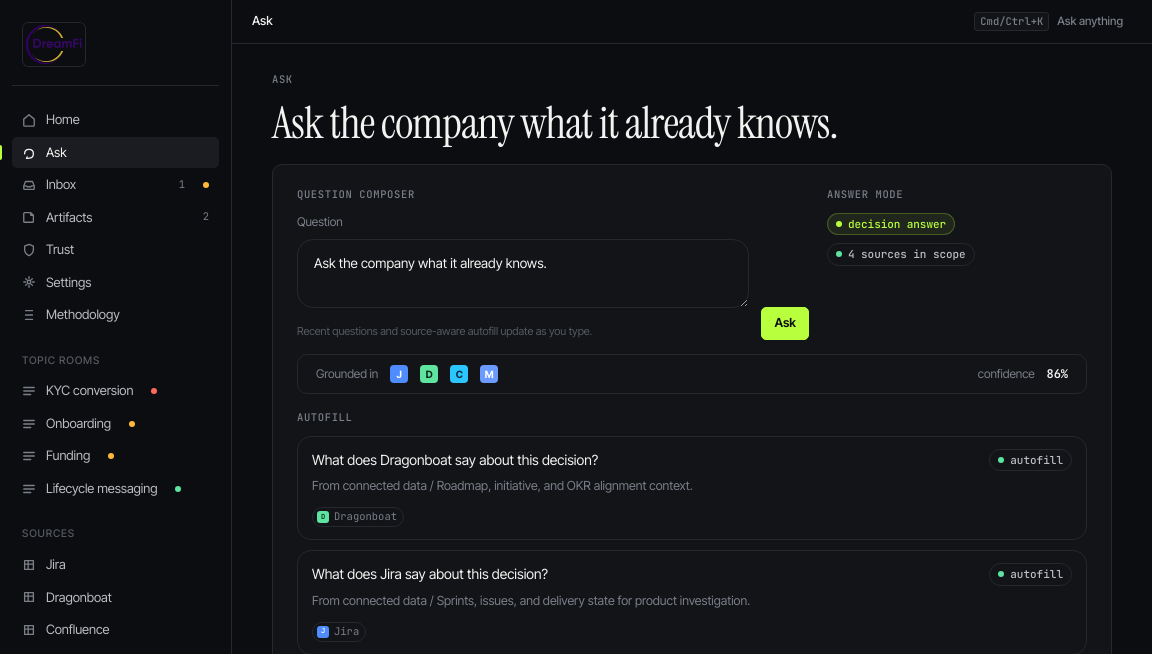
Test case: AppShell navigation › submits the ask page composer as an in-app query flow
Expected: the heading "Ask the company what it already knows." is shown, top-left (272, 94), bottom-right (838, 152)
Replace the text in the text box labelled "Question" with "Should onboarding stay in discovery or move forward?" at (523, 273), box top-left (297, 239), bottom-right (750, 308)
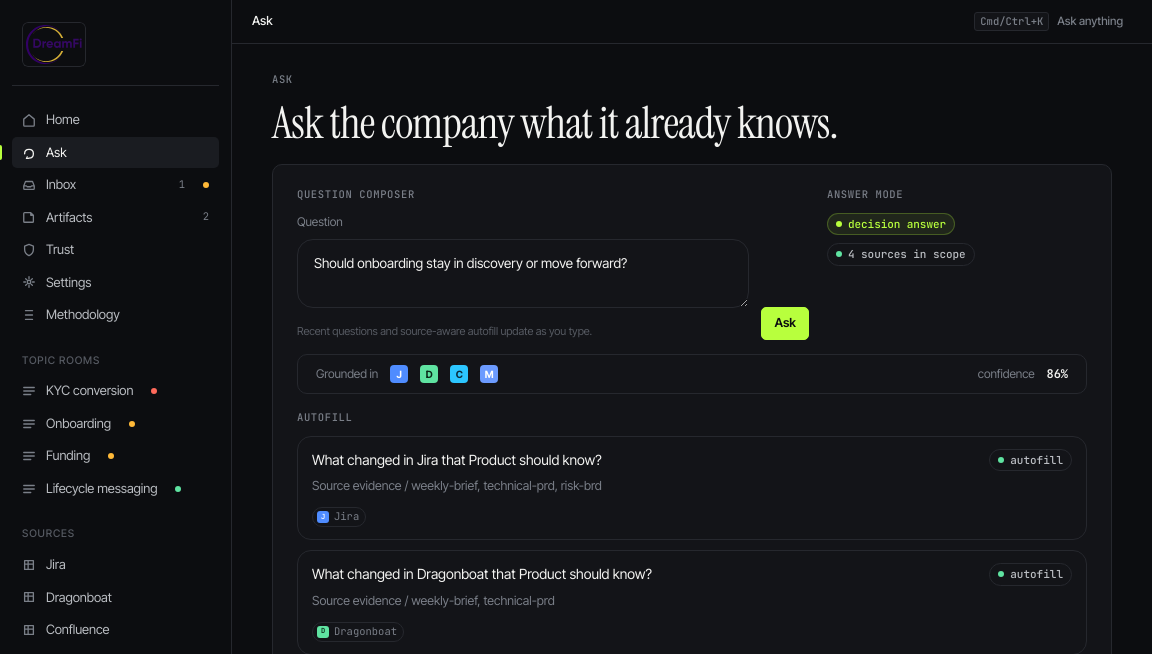
Submit the form "Question", box top-left (297, 213), bottom-right (809, 340)
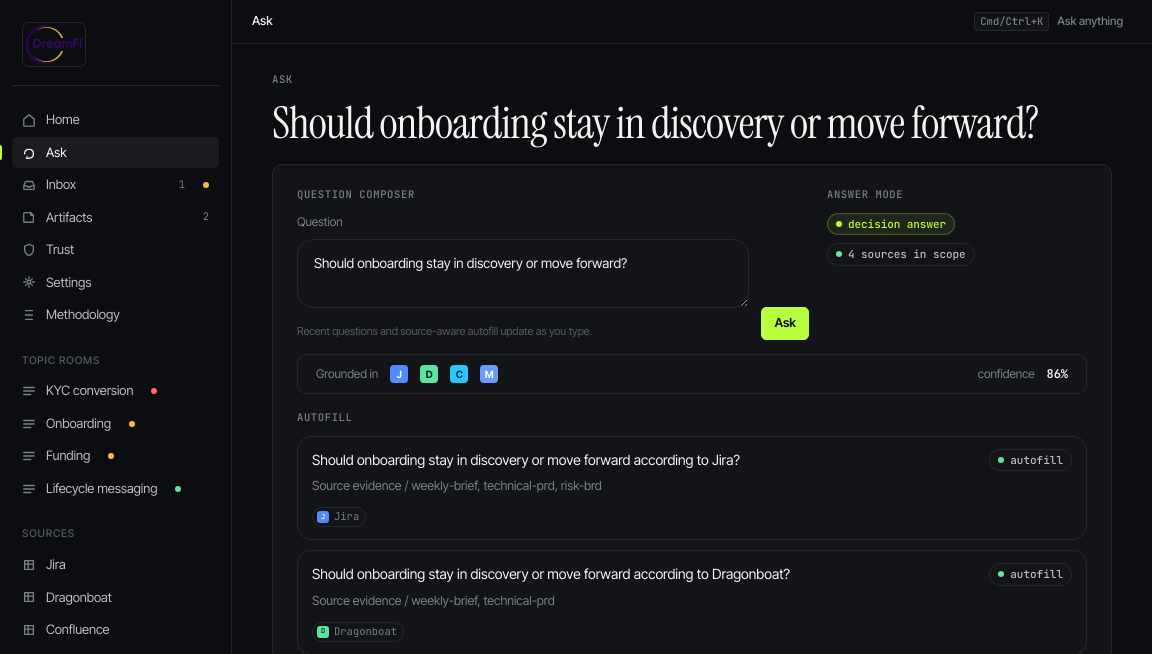
Now the heading "Should onboarding stay in discovery or move forward?" is shown, box top-left (272, 100), bottom-right (1112, 146)
